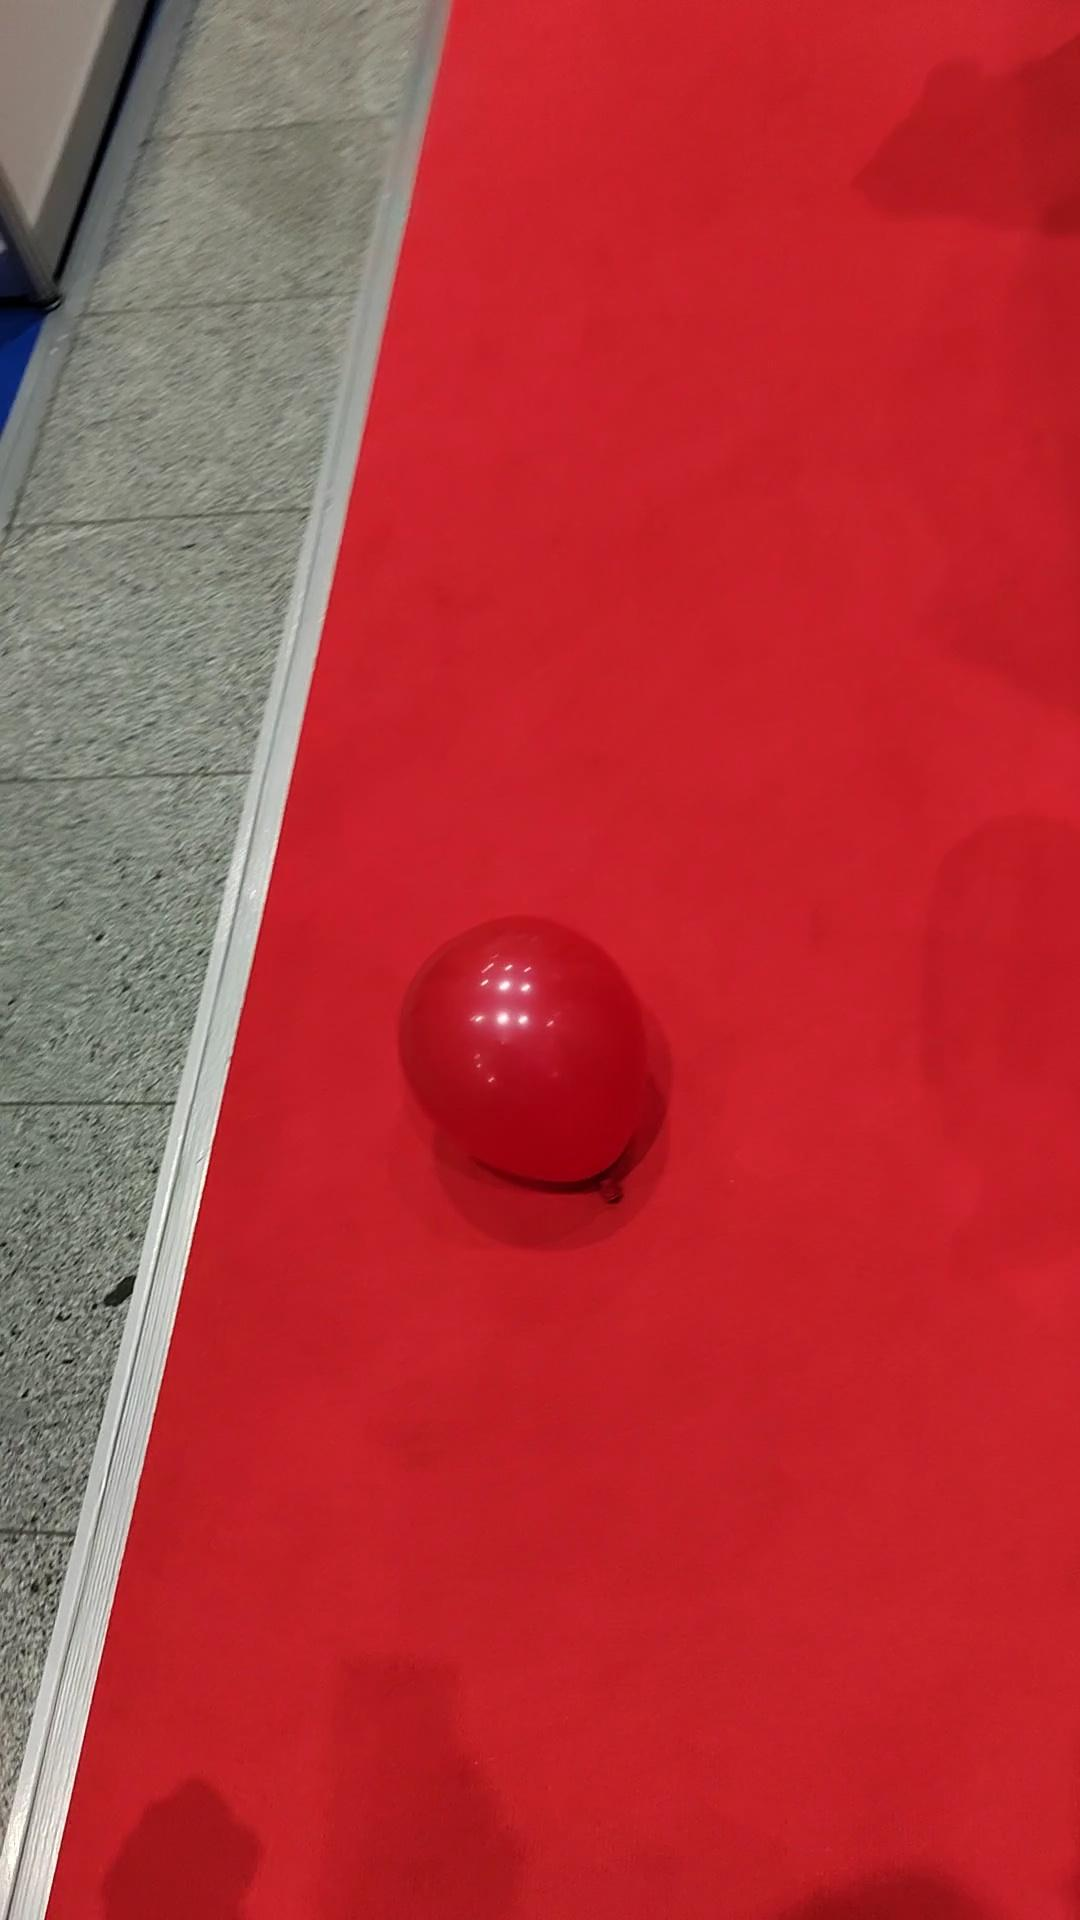red: (397, 916, 650, 1189)
